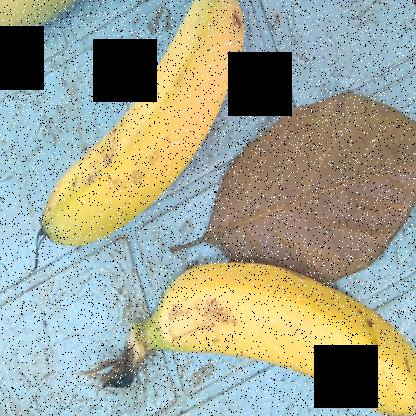freshripe: (47, 0, 248, 265), (96, 250, 415, 415)
